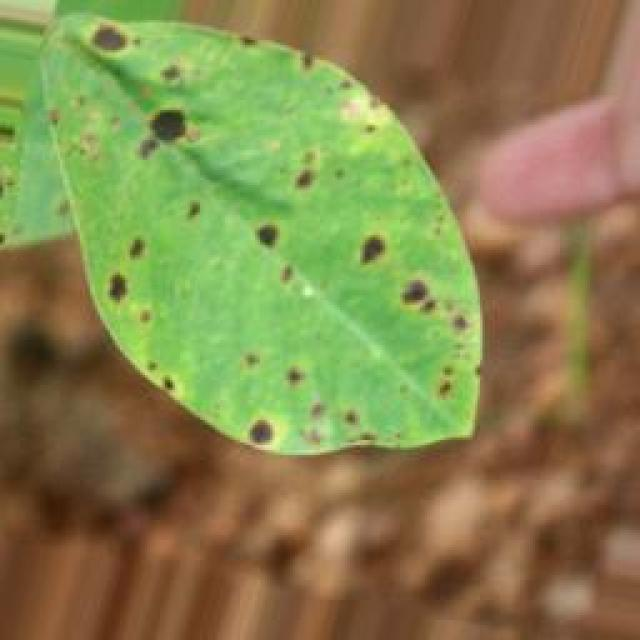Yellowish: (35, 8, 472, 450)
